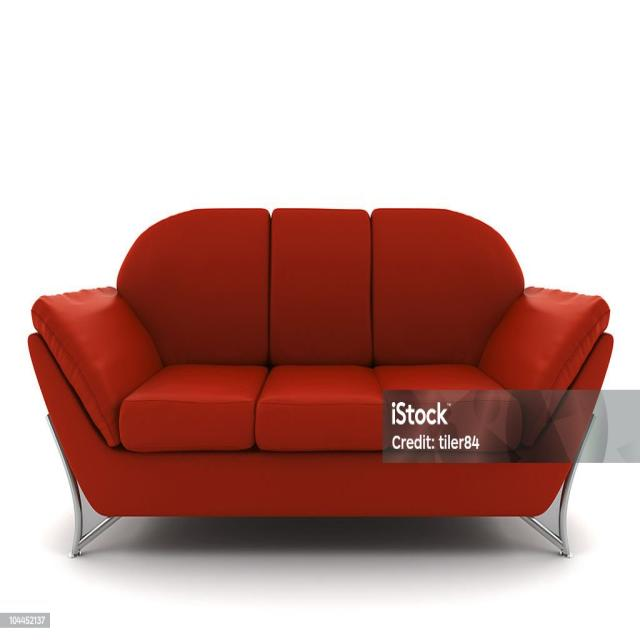back_cushion: (118, 209, 534, 365)
base: (29, 334, 612, 515)
left_arm: (480, 288, 609, 410), (524, 400, 547, 443)
legs: (46, 415, 119, 557), (522, 454, 580, 557), (578, 416, 594, 453)
right_arm: (32, 288, 161, 446)
seat_cushion: (119, 365, 524, 454)
stallion-sofa1: (28, 208, 613, 556)
